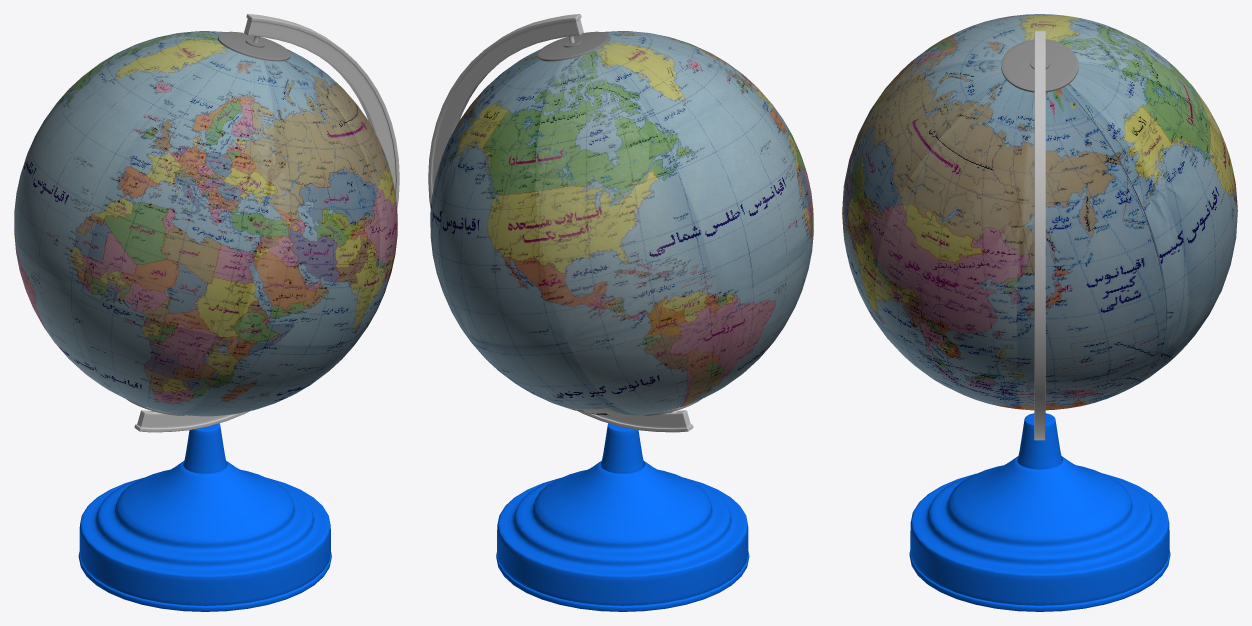
3 views of the same model, side by side, from view 1: azimuth 30°, elevation 25°; view 2: azimuth 150°, elevation 25°; view 3: azimuth 270°, elevation 25° (orthographic). The views are drawn at different scales.
Visible parts, largest first — view 1: Object01:PIV, Globe02; view 2: Object01:PIV, Globe02; view 3: Object01:PIV, Globe02.
Part boxes in pixels (<box>): Object01:PIV: <box>14,31,397,416</box>; Globe02: <box>78,14,399,611</box>; Object01:PIV: <box>430,31,813,416</box>; Globe02: <box>428,14,749,611</box>; Object01:PIV: <box>842,14,1237,410</box>; Globe02: <box>909,31,1170,611</box>.
Size of the model in its own units: 23.57 by 33.52 by 21.91.
4 materials, 1 textured.
